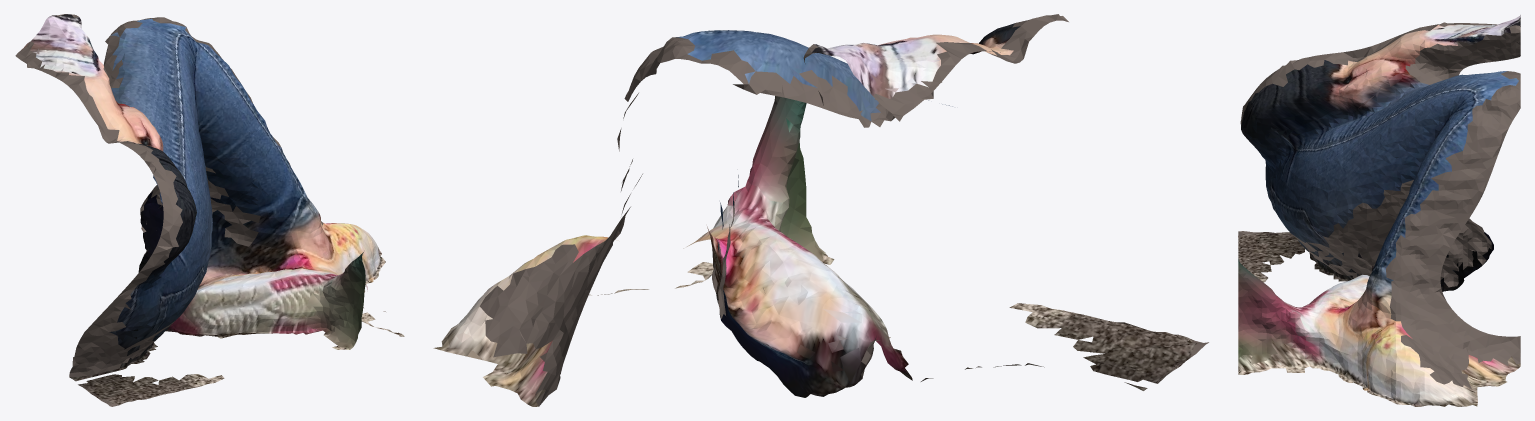
The picture shows the model from 3 angles, left to right: view 1: azimuth 30°, elevation 25°; view 2: azimuth 150°, elevation 25°; view 3: azimuth 270°, elevation 25°; orthographic projection. The views are drawn at different scales.
Bounding box in the file's own units: 0.617 × 0.4327 × 0.4257.
Materials: 1 (1 with a texture image).
